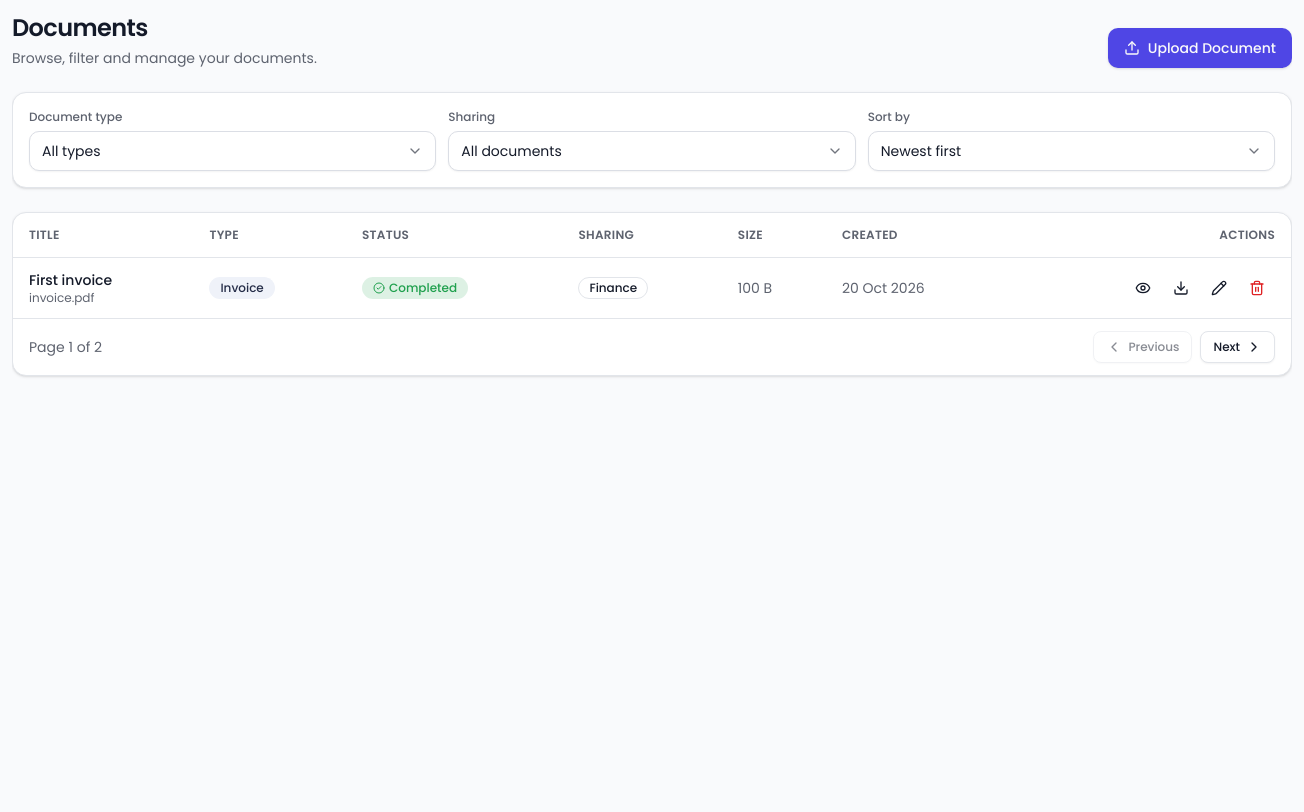
it: an empty sharing-filter result keeps navigation to matching documents on another page
Expected: the link "First invoice" is shown, [29,270,112,290]
Press ArrowDown in the dropdown named "Sharing", box [448,131,856,171]
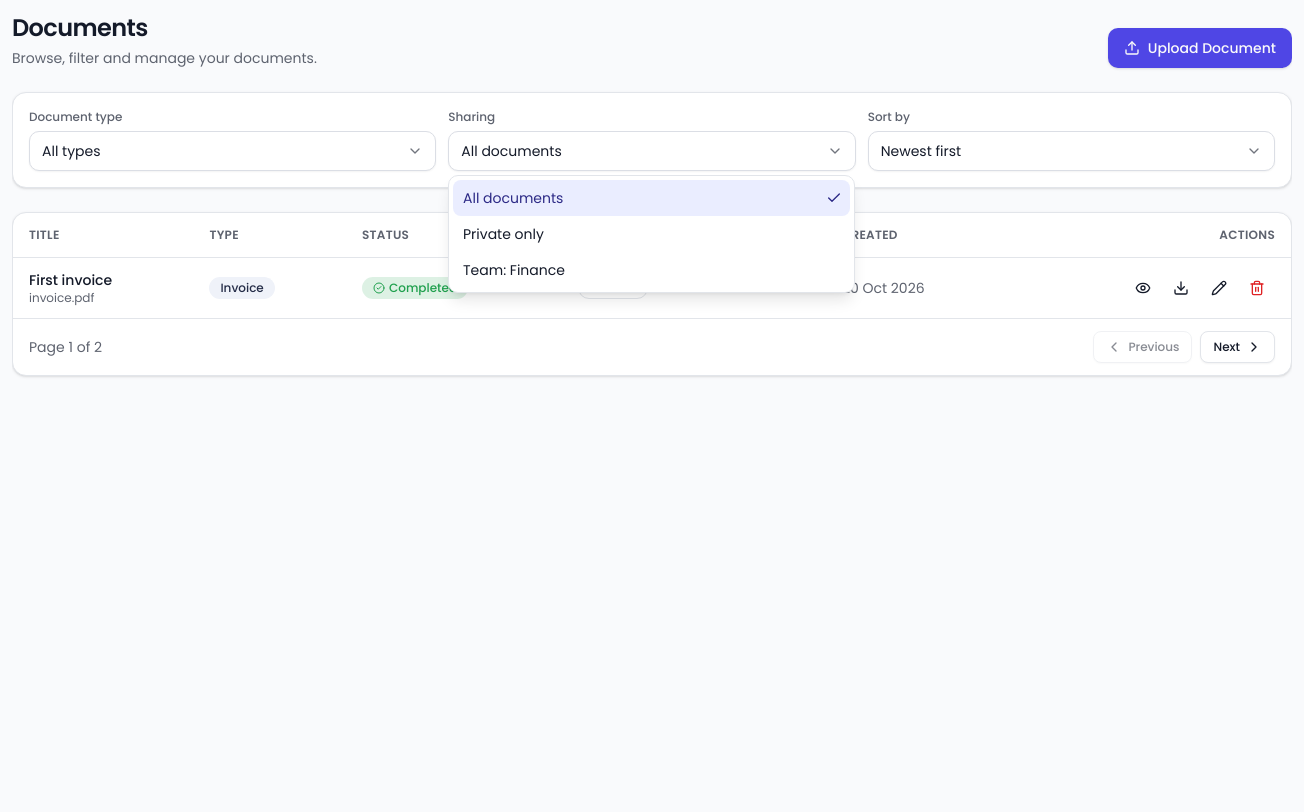
Press Enter in the option "Private only", box [463,224,544,244]
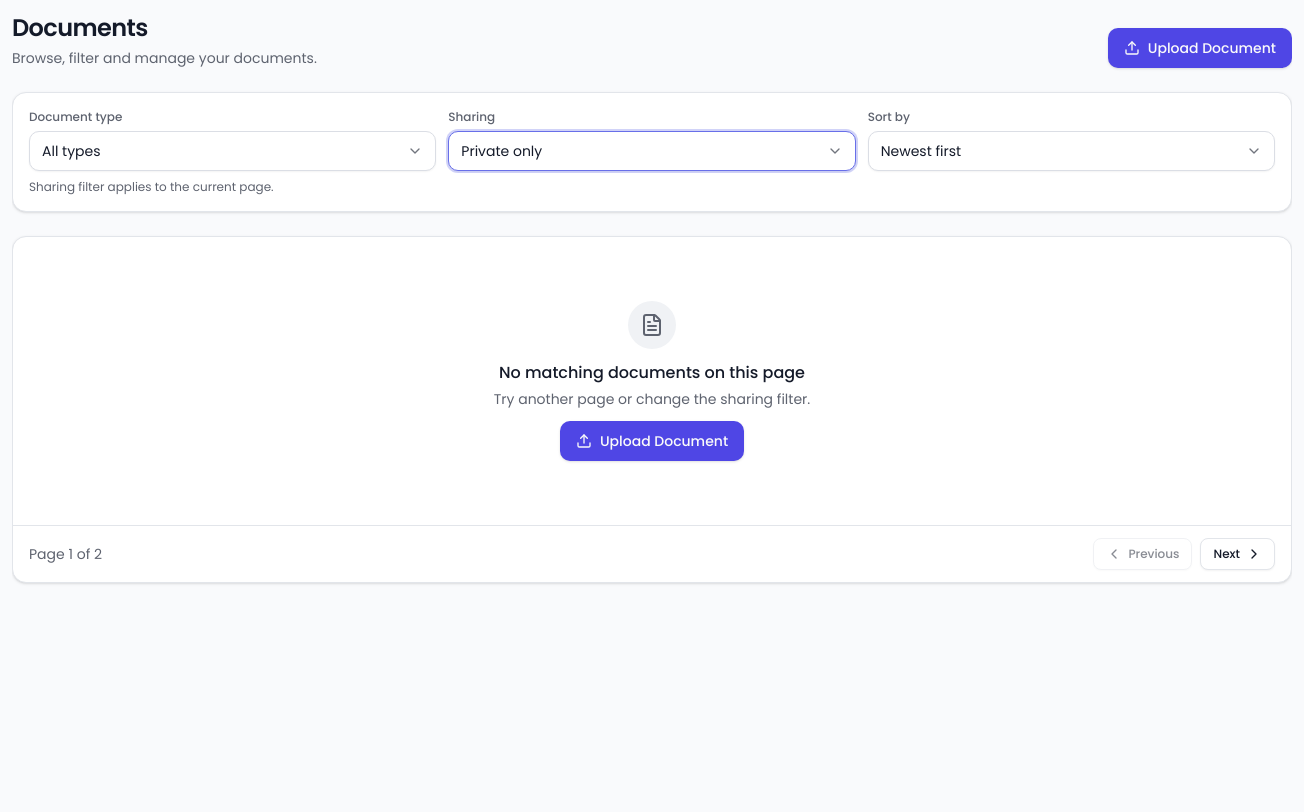
Now the text "No matching documents on this page" is shown, box [494,361,810,385]
Click the button "Next". click: (1238, 554)
box: [1200,538,1275,570]
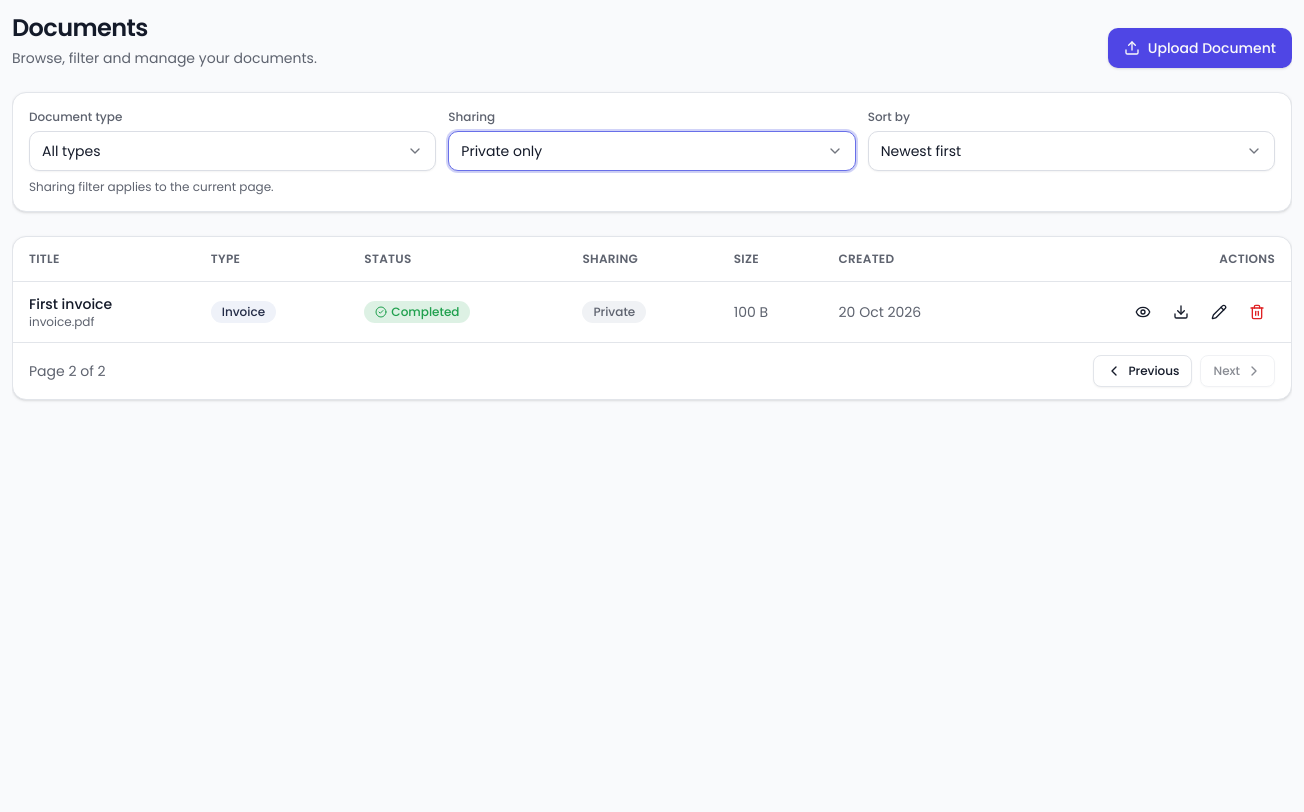
Now the link "First invoice" is shown, box [29,294,112,314]
Now the text "Page 2 of 2" is shown, box [29,360,106,380]
